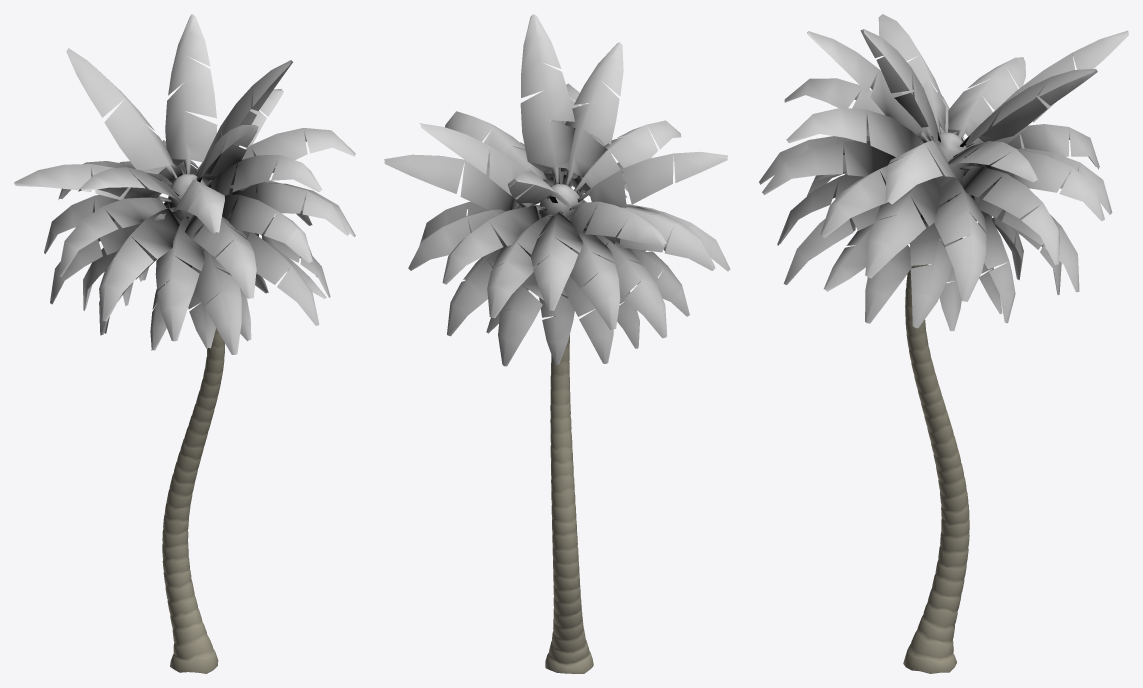
File: ballpit_palmtree_e.fbx
3 views of the same model, side by side, from view 1: azimuth 30°, elevation 25°; view 2: azimuth 150°, elevation 25°; view 3: azimuth 270°, elevation 25° (orthographic). The views are drawn at different scales.
Visible parts, largest first — view 1: Palm Tree E; view 2: Palm Tree E; view 3: Palm Tree E.
Part boxes in pixels (<box>): Palm Tree E: <box>14,14,355,673</box>; Palm Tree E: <box>384,14,730,673</box>; Palm Tree E: <box>759,14,1128,673</box>.
Size of the model in its own units: 9.03 by 18.62 by 9.3.
